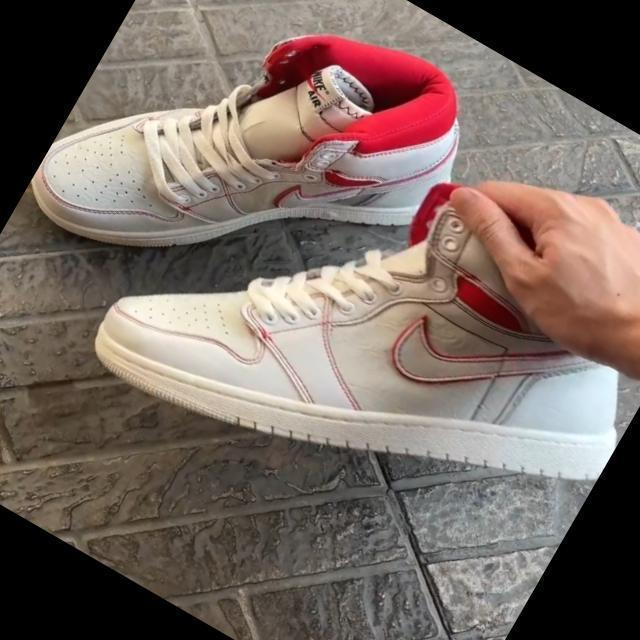nike fake jordan 1: (66, 47, 640, 610), (14, 0, 494, 389)
